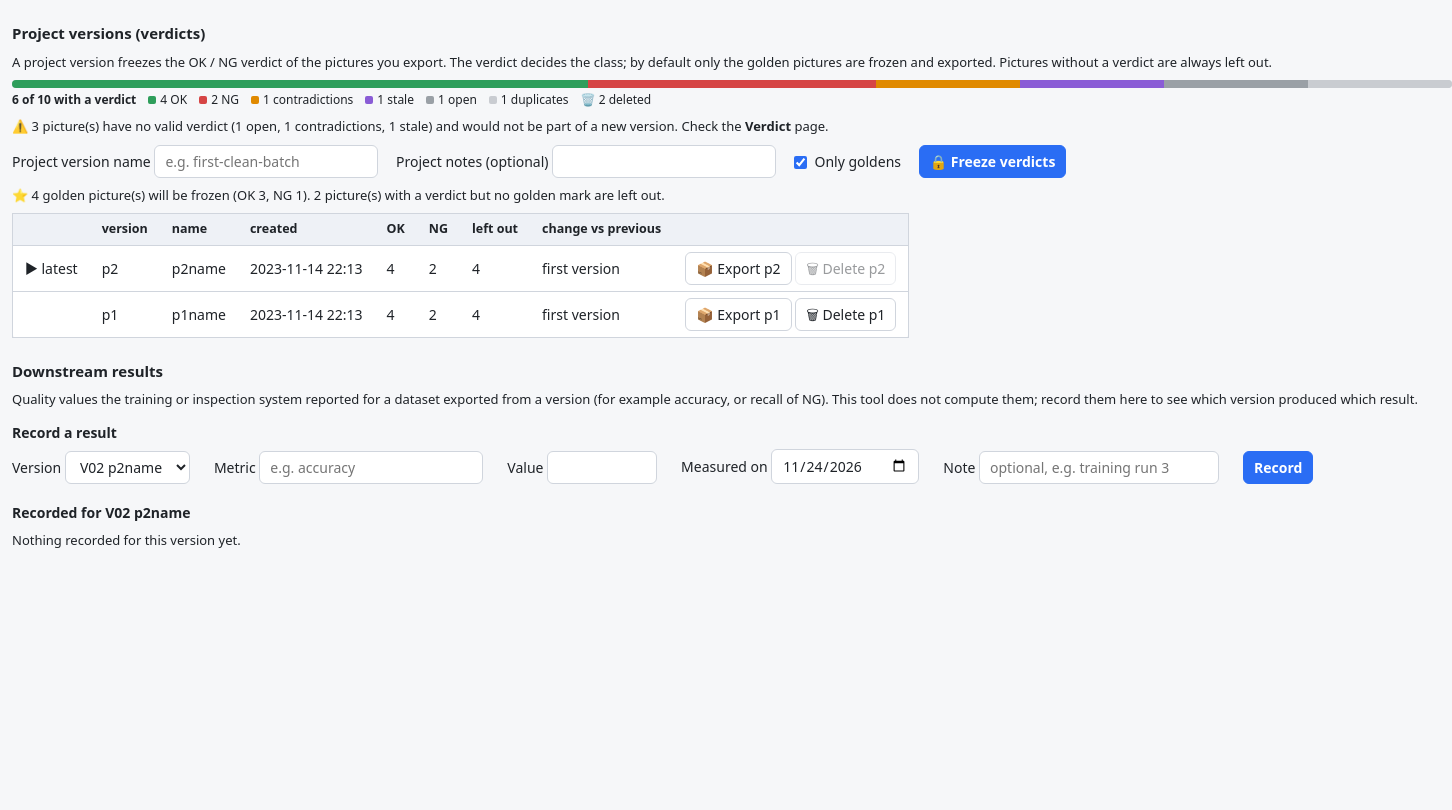
Test: freeze posts the name and notes and reloads
Check: the table named "Project version history" is shown, box [12, 213, 909, 338]
In the field labelled "Project version name": (266, 161) [154, 144, 378, 178], type "batch 1"
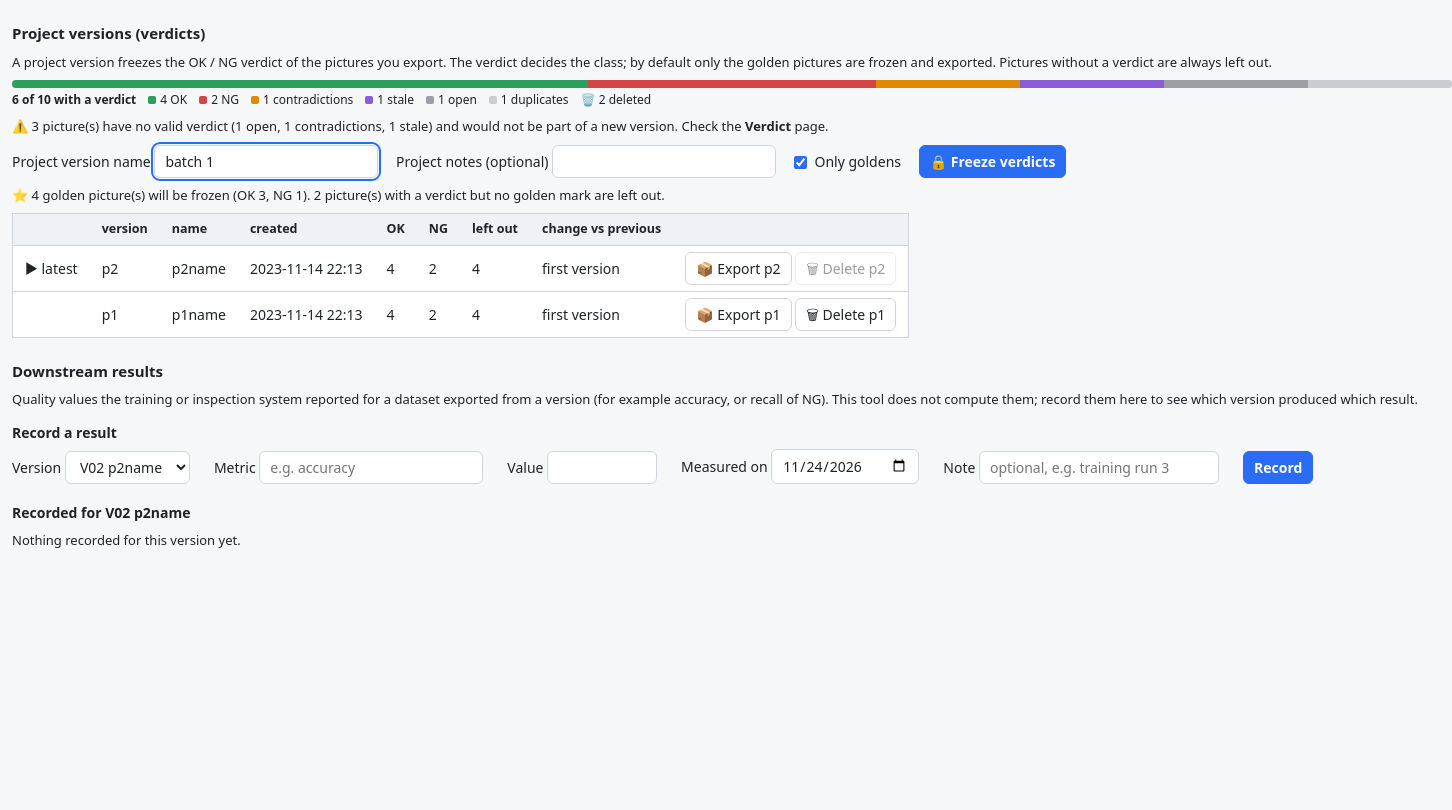
In the field labelled "Project notes (optional)": (664, 161) [552, 144, 776, 178], type "first"
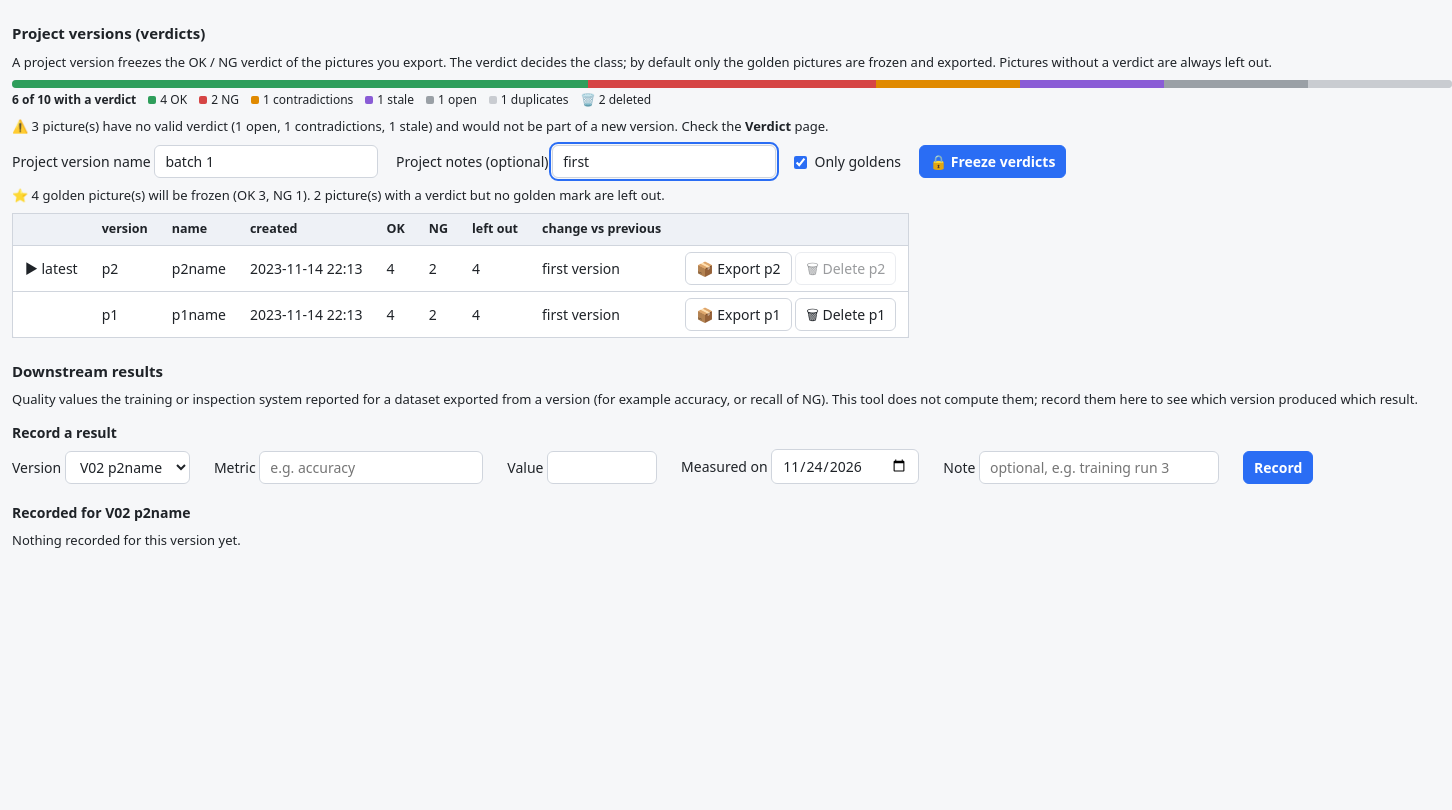
Click the button "🔒 Freeze verdicts": (992, 161) [919, 144, 1066, 178]
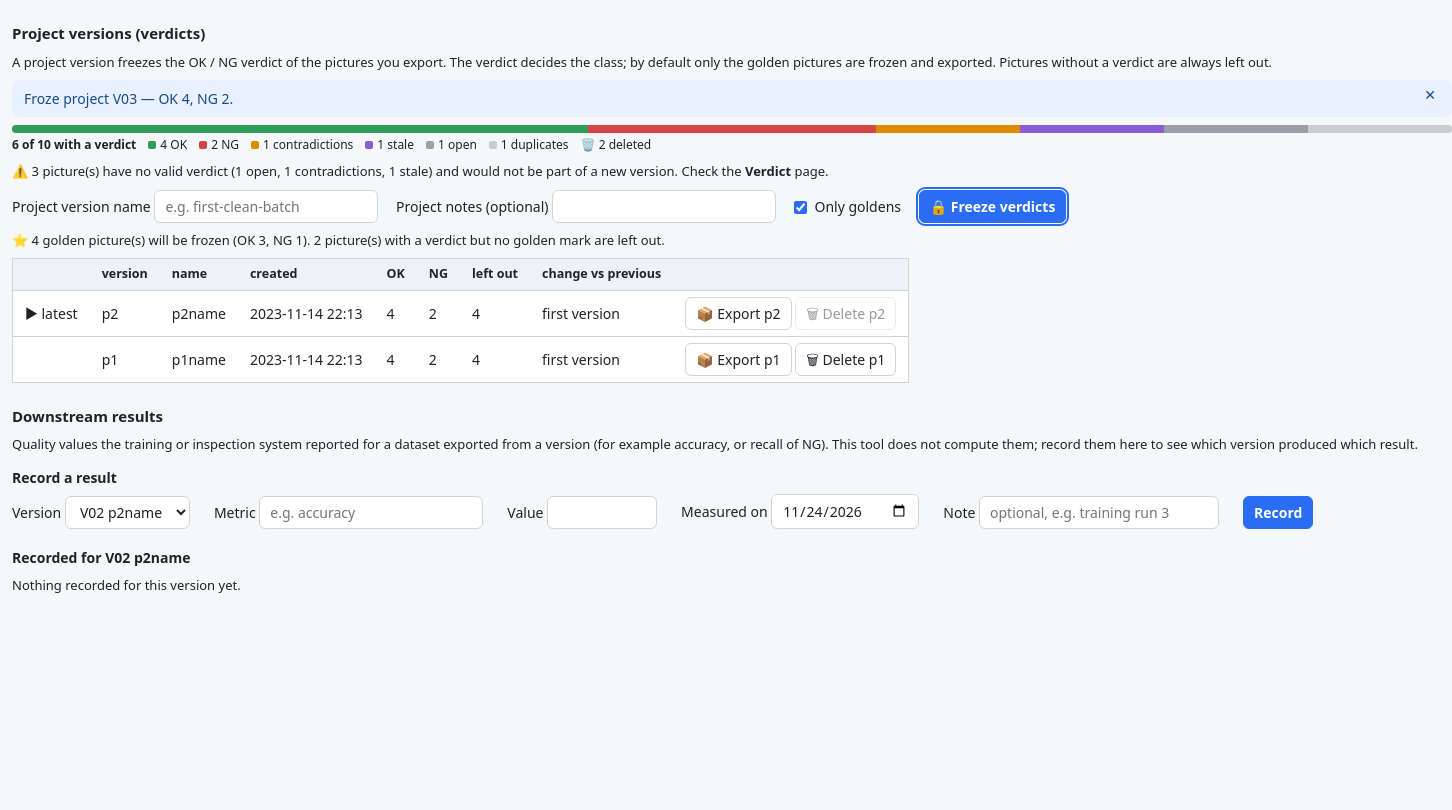
Check: the text "Froze project V03 — OK 4, NG 2." is shown, box [24, 89, 233, 108]
